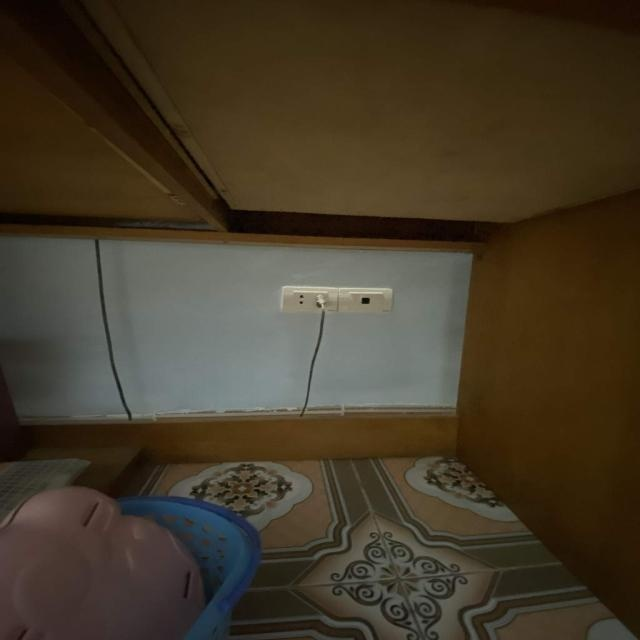outlet: (280, 286, 338, 313), (338, 287, 393, 313)
